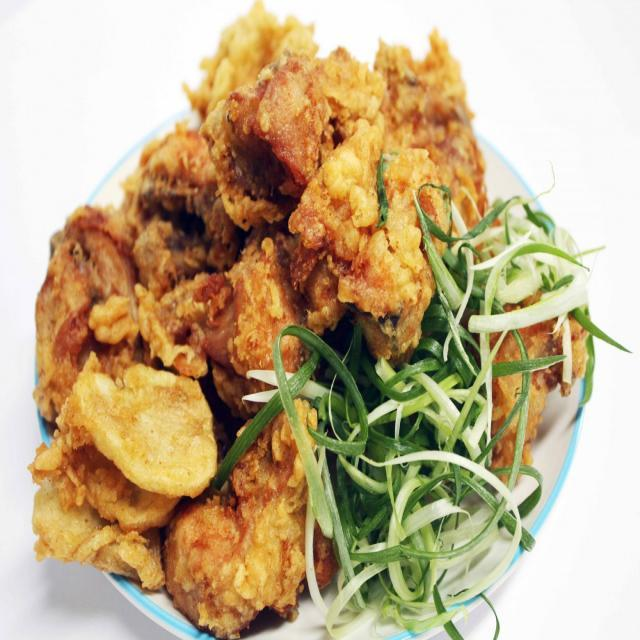Frango: (9, 17, 320, 604)
